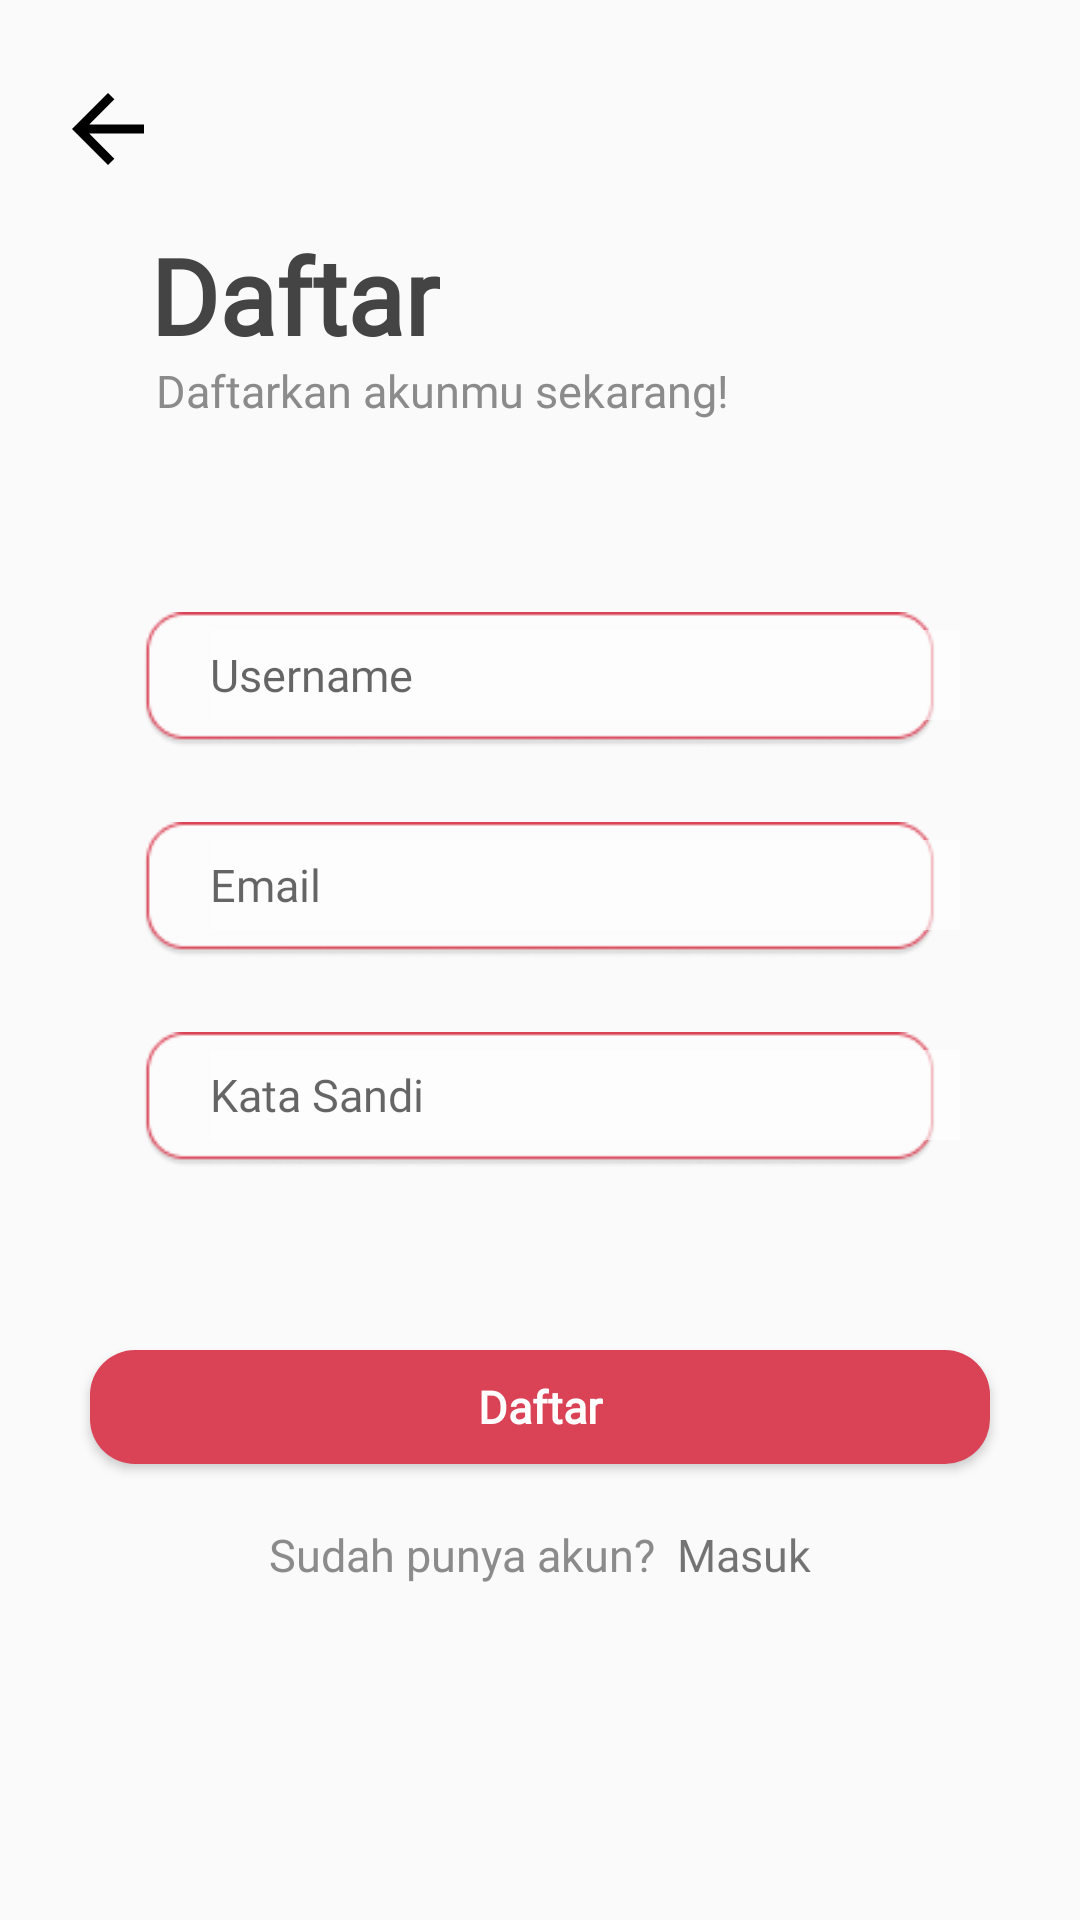

Icons on this 1080x1920 Android screen, each with the point to tap as (x,y):
back: (108,129)
